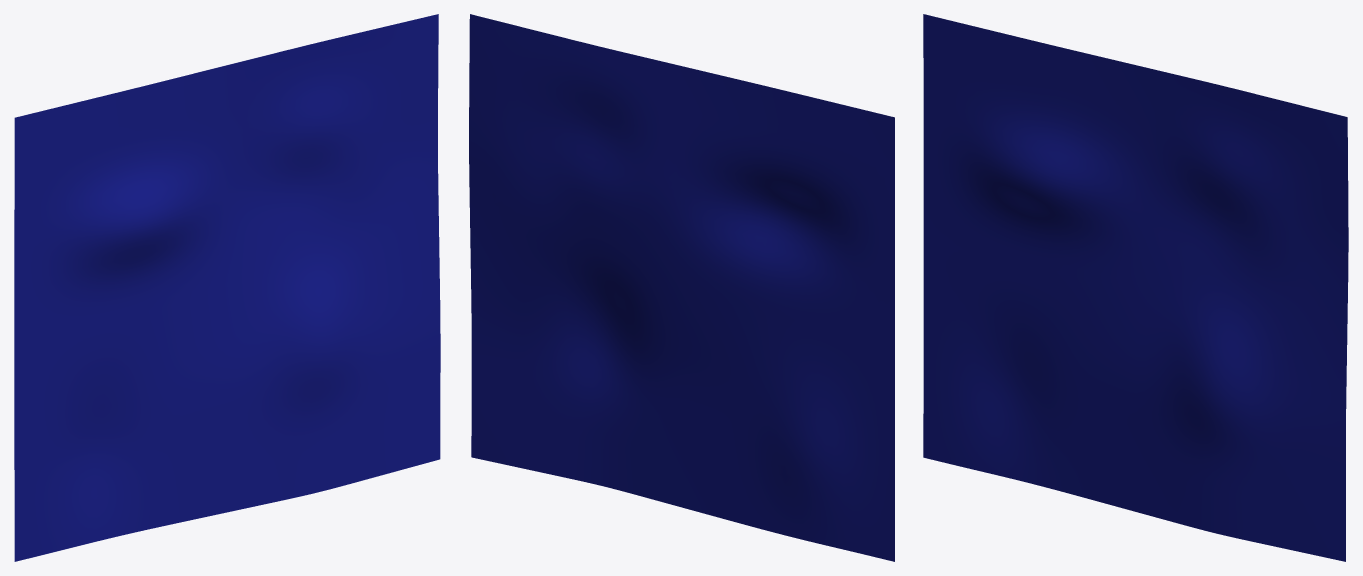
Rendered from GroundSurface.glb.
The picture shows the model from 3 angles, left to right: view 1: azimuth 30°, elevation 25°; view 2: azimuth 150°, elevation 25°; view 3: azimuth 330°, elevation 25°; orthographic projection.
Parts seen in each view (by area): view 1: SurfPatch; view 2: SurfPatch; view 3: SurfPatch.
Part boxes in pixels (x1,y1,x2,y2): SurfPatch: (14,14,440,561); SurfPatch: (469,14,894,561); SurfPatch: (923,14,1348,561).
Size of the model in its own units: 250 by 250 by 12.67.
